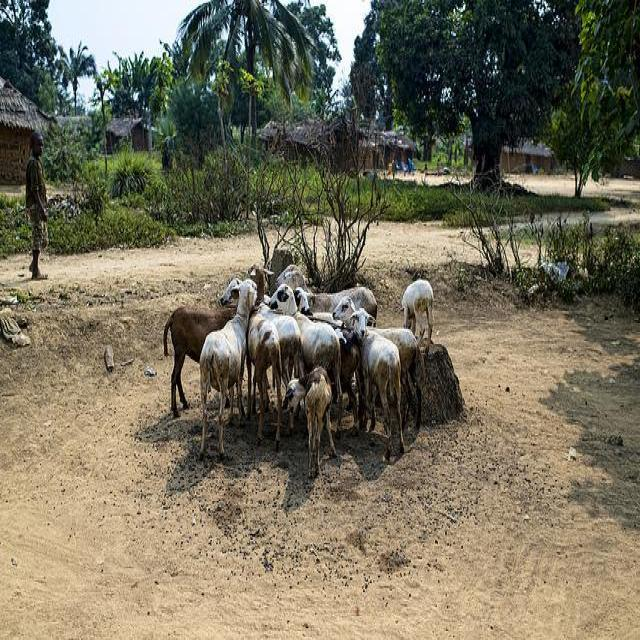Sheep: (333, 296, 424, 431), (268, 286, 343, 438), (220, 278, 282, 450), (200, 281, 257, 456), (356, 308, 411, 468), (162, 305, 232, 419), (246, 260, 306, 386), (281, 361, 338, 482), (275, 265, 377, 323), (332, 296, 402, 362)
